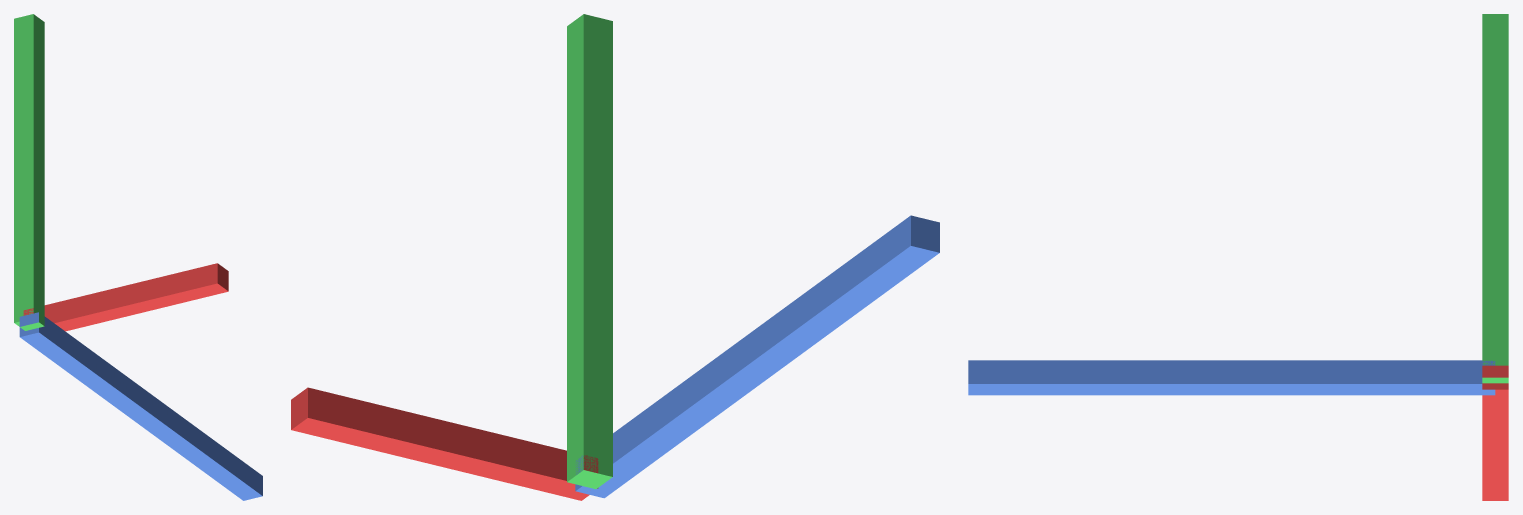
The model's file is d5-axis-probe.glb.
The picture shows the model from 3 angles, left to right: view 1: azimuth 30°, elevation 25°; view 2: azimuth 150°, elevation 25°; view 3: azimuth 270°, elevation 25°; orthographic projection. The views are drawn at different scales.
Parts seen in each view (by area): view 1: Y-green, Z-blue, X-red; view 2: Y-green, Z-blue, X-red; view 3: Z-blue, Y-green, X-red.
Boxes of the visible parts, left/top/right/bottom form: Y-green: left=14, top=14, right=44, bottom=330; Z-blue: left=19, top=312, right=262, bottom=500; X-red: left=23, top=263, right=228, bottom=331; Y-green: left=567, top=14, right=612, bottom=489; Z-blue: left=575, top=215, right=939, bottom=498; X-red: left=291, top=387, right=598, bottom=500; Z-blue: left=968, top=360, right=1495, bottom=395; Y-green: left=1482, top=14, right=1508, bottom=383; X-red: left=1482, top=365, right=1508, bottom=500.
Size of the model in its own units: 1.05 by 1.55 by 2.05.
